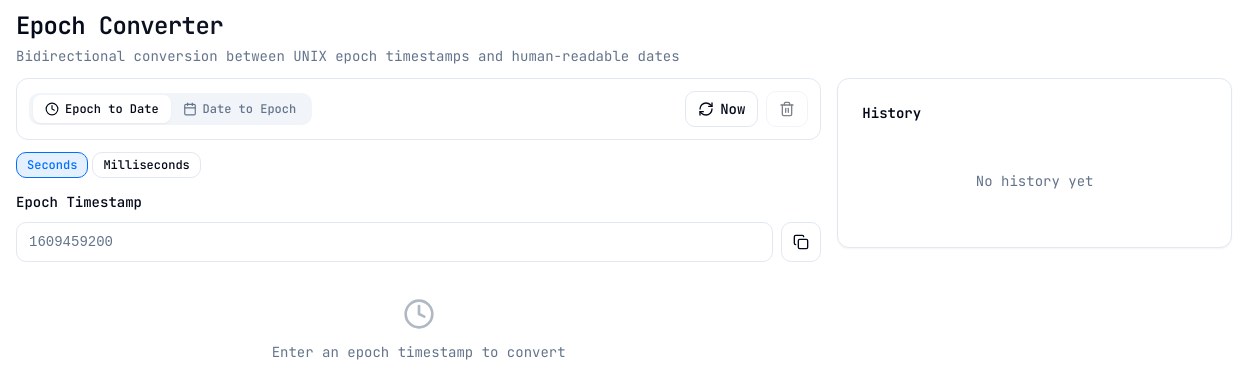
Scenario: TimestampConverterPage › date to epoch conversion › switches to date-to-epoch mode
Press the mouse on the tab "Date to Epoch" at (239, 109), box [171,95,308,123]
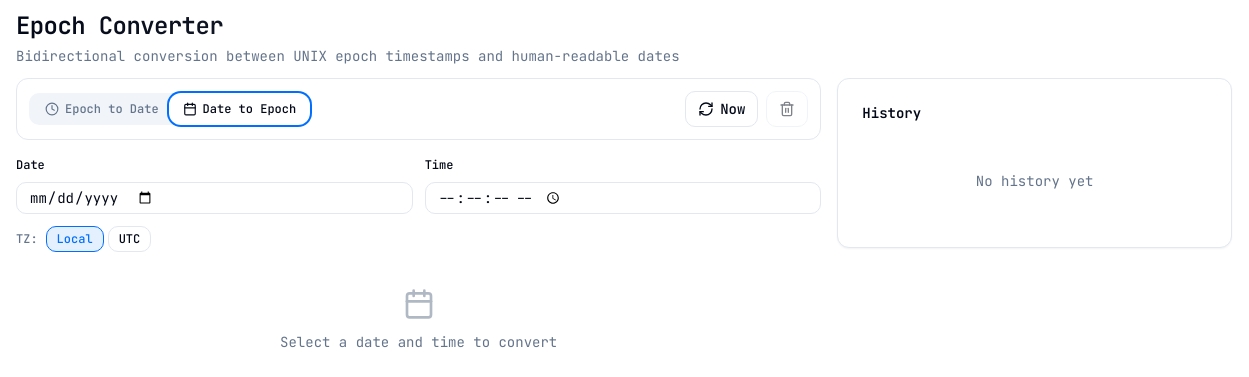
Check: the text "Select a date and time to convert" is shown, box [280,332,557,352]
